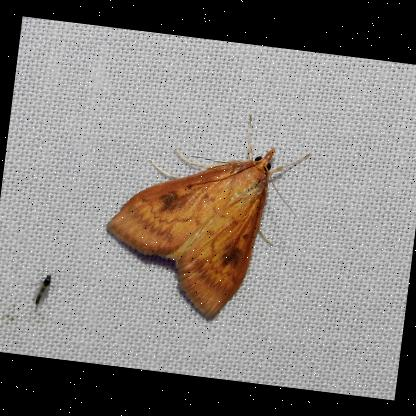Asian Corn Borer Moth: (92, 96, 315, 334)
